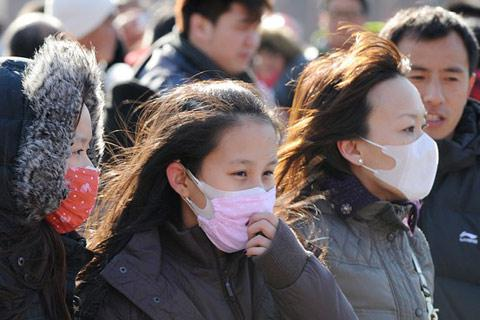NONE: (397, 61, 469, 140), (207, 17, 262, 74)
OK: (3, 129, 107, 233), (187, 152, 280, 255), (346, 111, 438, 205)
